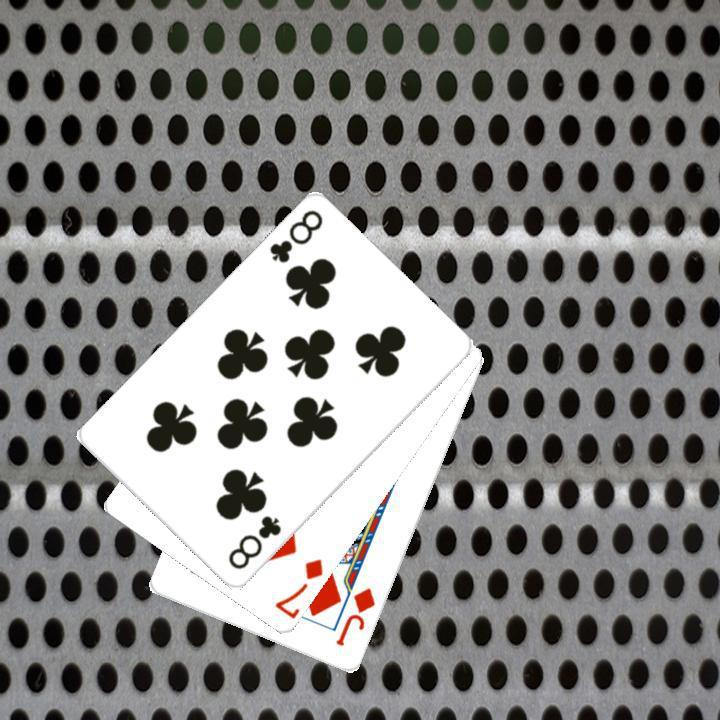7: (270, 554, 326, 620)
8: (223, 511, 284, 572), (264, 206, 325, 266)
J: (331, 584, 378, 649)
